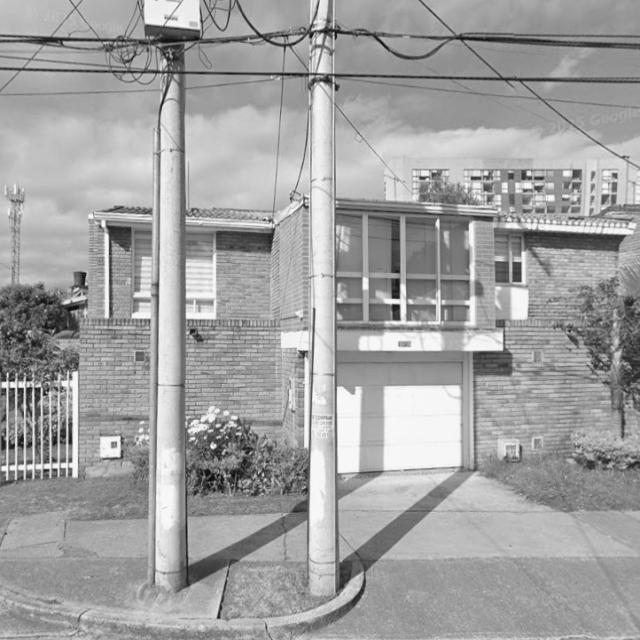Fachada: (336, 199, 639, 472), (186, 203, 310, 445), (79, 206, 149, 476), (625, 399, 639, 434)
Poste: (145, 0, 199, 591), (308, 0, 339, 595)
